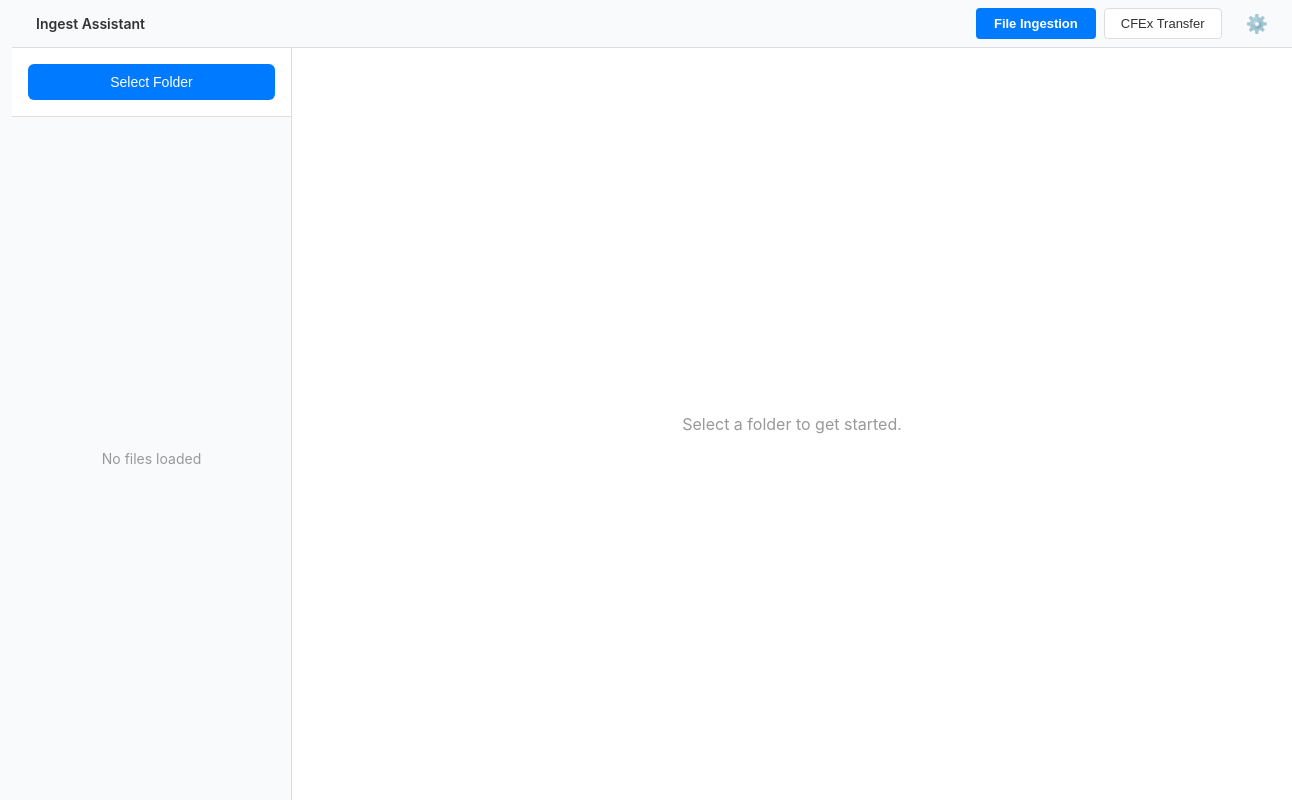
Test: Keyboard Shortcuts › Arrow keys - Navigation shortcuts › should navigate to previous file with ArrowUp
Click the button "Select Folder" at (152, 82), box [28,64,275,100]
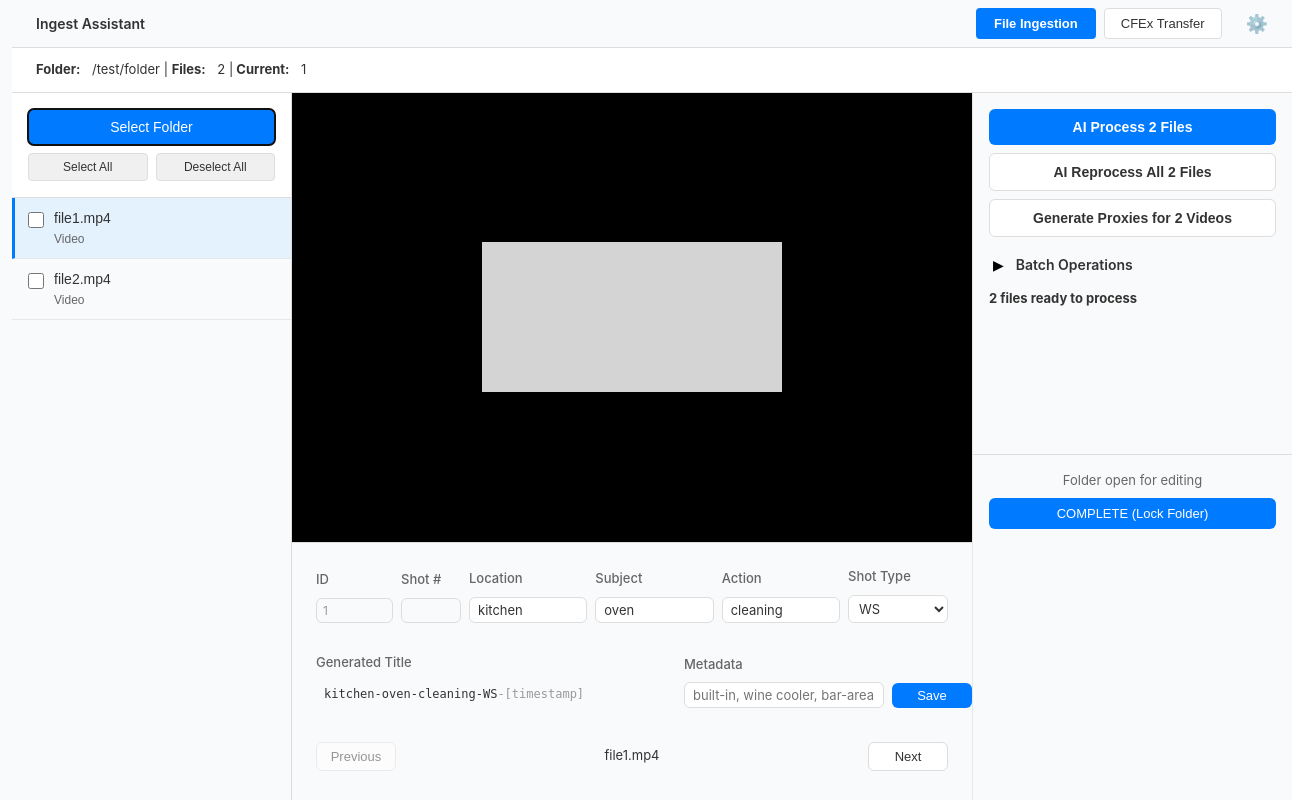
Result: the text "Folder: /test/folder | Files: 2 | Current: 1" is shown at [12,48,1291,92]
// Move to second file first
Press Arrowdown
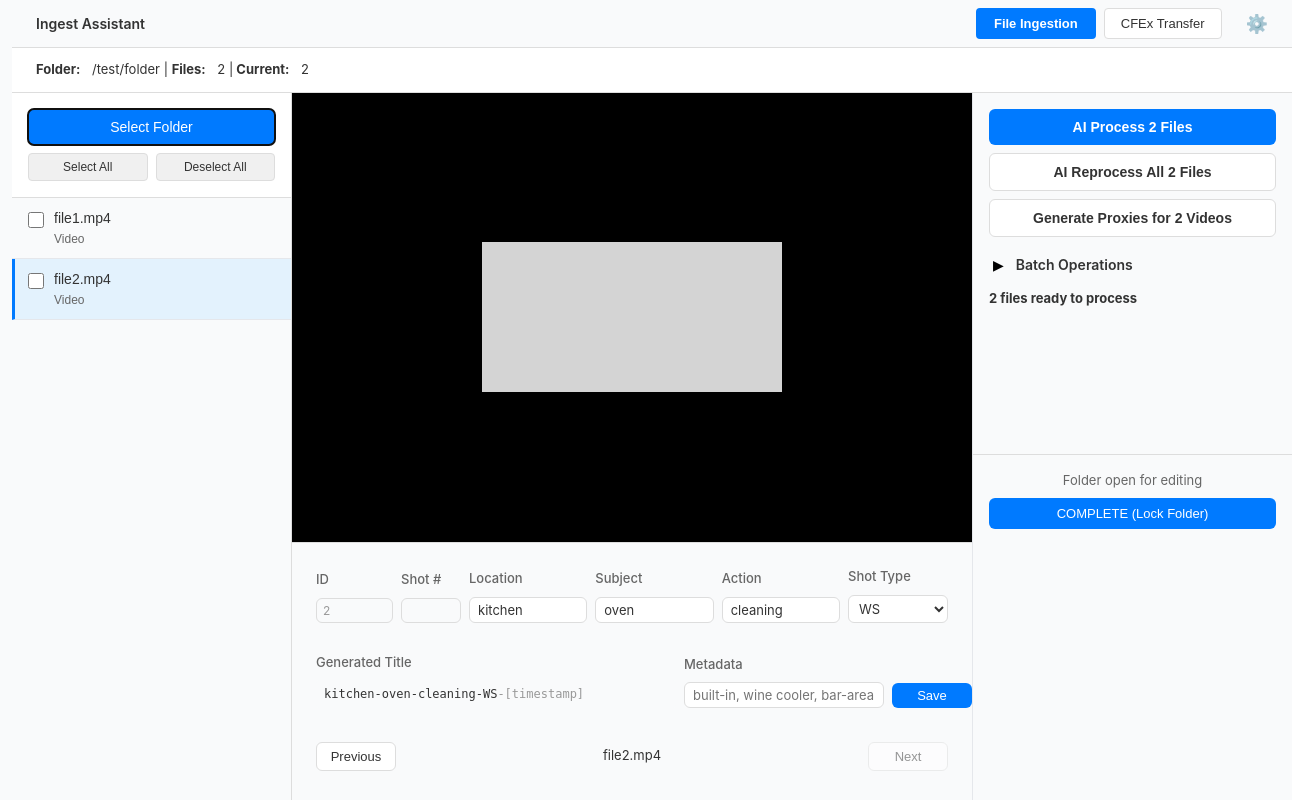
Result: the text "Folder: /test/folder | Files: 2 | Current: 2" is shown at [12,48,1291,92]
// Press ArrowUp to go back
Press Arrowup
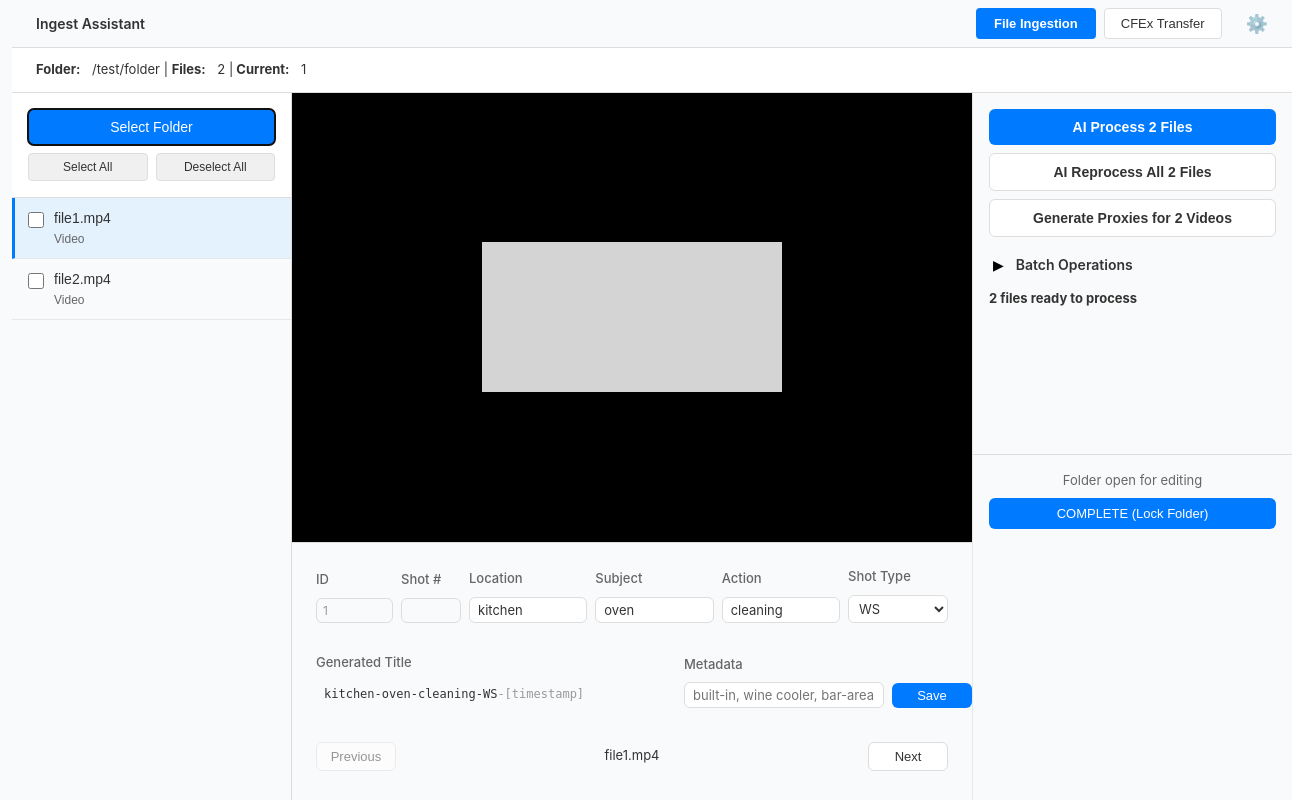
Result: the text "Folder: /test/folder | Files: 2 | Current: 1" is shown at [12,48,1291,92]
